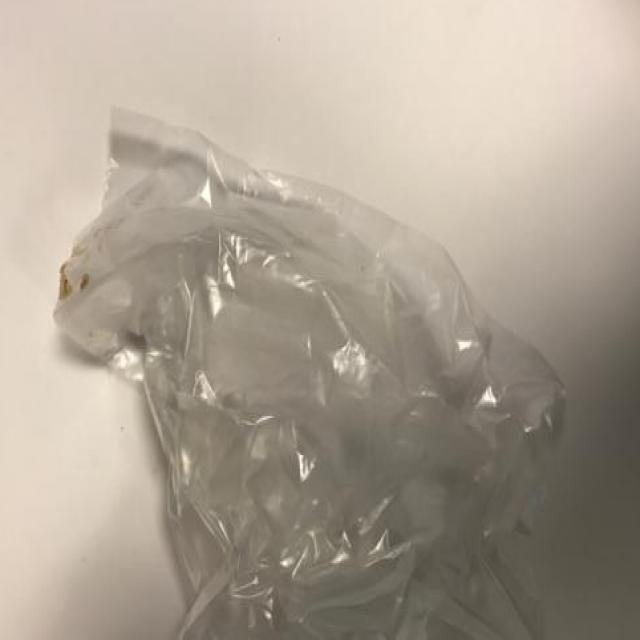plastic: (52, 108, 568, 639)
